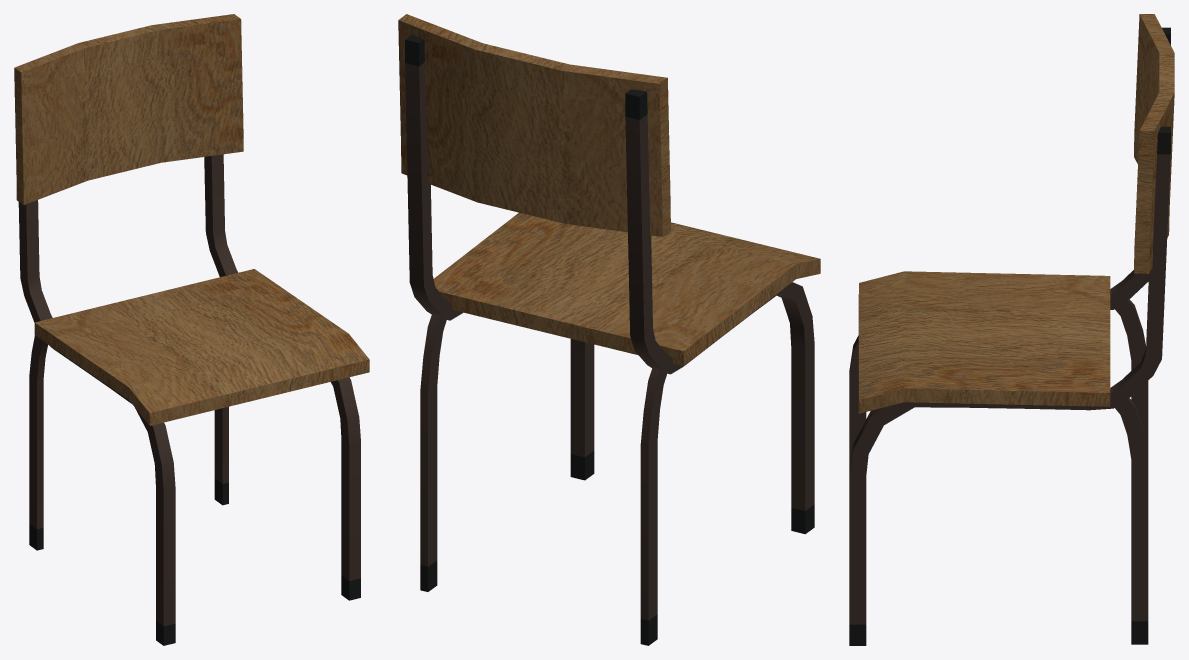
The model's file is chair4.FBX.
3 renders of one model, left to right at view 1: azimuth 30°, elevation 25°; view 2: azimuth 150°, elevation 25°; view 3: azimuth 270°, elevation 25°, orthographic. The views are drawn at different scales.
Parts seen in each view (by area): view 1: chair4; view 2: chair4; view 3: chair4.
Part boxes in pixels (left/top/right/bottom): chair4: left=14, top=14, right=369, bottom=645; chair4: left=398, top=14, right=820, bottom=645; chair4: left=849, top=14, right=1174, bottom=645.
Size of the model in its own units: 4.29 by 8.91 by 5.04.
